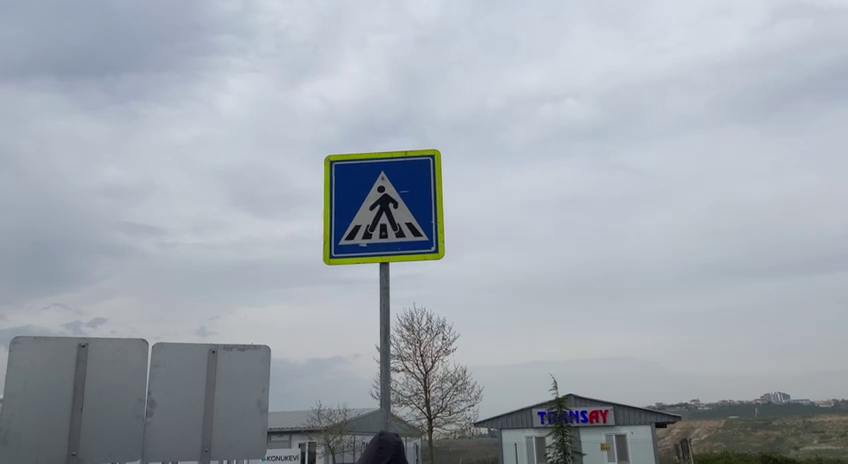pedestrianCrossing: (320, 145, 449, 269)
